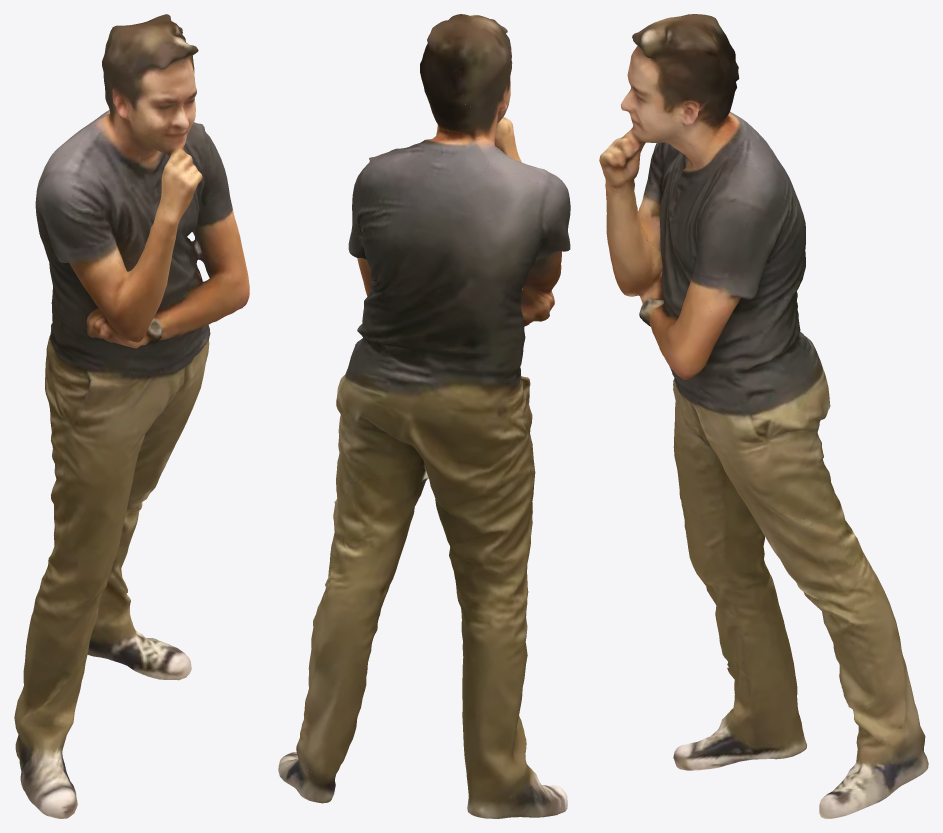
Rendered from person-standing-7.glb.
The picture shows the model from 3 angles, left to right: view 1: azimuth 30°, elevation 25°; view 2: azimuth 150°, elevation 25°; view 3: azimuth 270°, elevation 25°; orthographic projection. The views are drawn at different scales.
Visible parts, largest first — view 1: Object_0; view 2: Object_0; view 3: Object_0.
Part boxes in pixels (x1,y1,x2,y2): Object_0: (14,14,249,818); Object_0: (278,14,570,818); Object_0: (599,14,928,818).
Size of the model in its own units: 0.5158 by 1.75 by 0.6589.
1 material, 1 textured.
